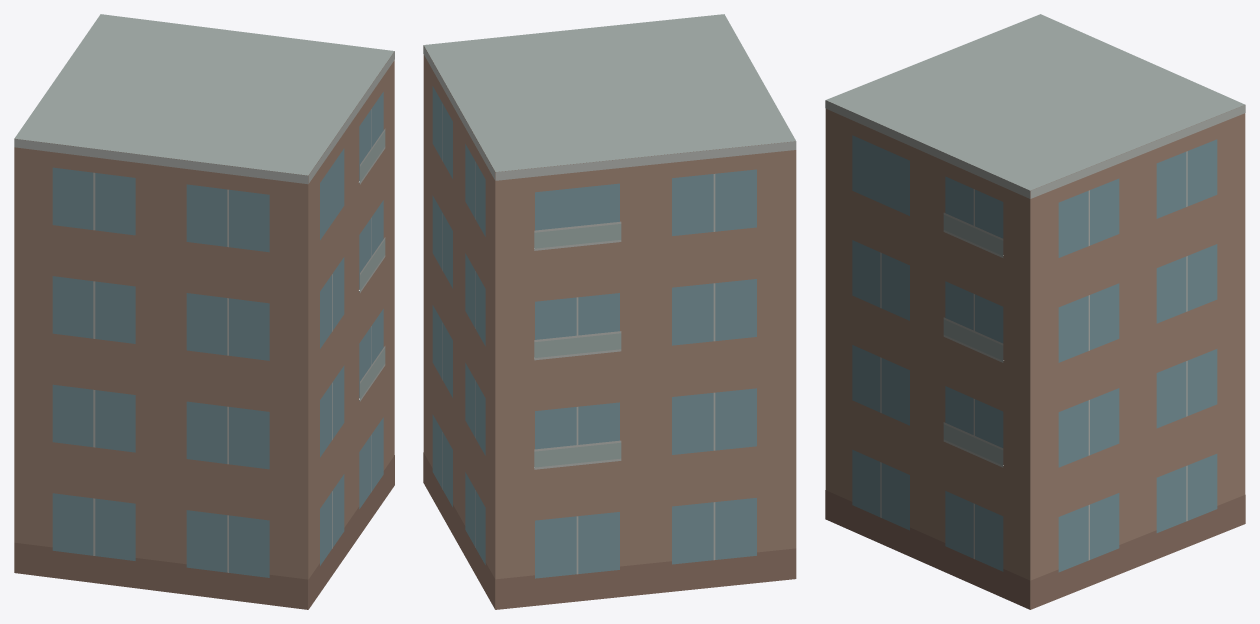
File: survey-upis-32710583.glb
3 views of the same model, side by side, from view 1: azimuth 30°, elevation 25°; view 2: azimuth 150°, elevation 25°; view 3: azimuth 270°, elevation 25° (orthographic). The views are drawn at different scales.
Parts seen in each view (by area): view 1: survey-upis-32710583.tmp; view 2: survey-upis-32710583.tmp; view 3: survey-upis-32710583.tmp.
Part boxes in pixels (x1,y1,x2,y2): survey-upis-32710583.tmp: (14, 14, 394, 609); survey-upis-32710583.tmp: (423, 14, 796, 609); survey-upis-32710583.tmp: (825, 14, 1245, 609).
Size of the model in its own units: 11.04 by 12.2 by 11.08.
